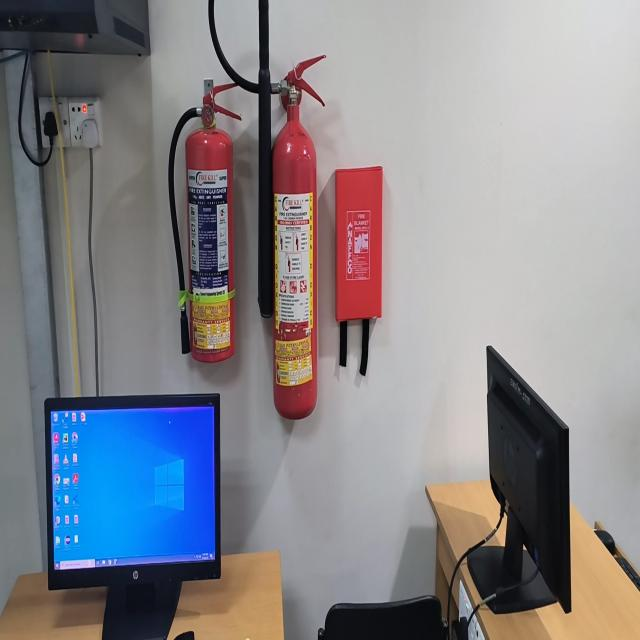Chair: (318, 595, 447, 639)
Fire Extinguisher: (257, 0, 325, 418), (168, 79, 241, 362)
Monitor: (45, 394, 220, 639), (466, 346, 571, 614)
Mouse: (594, 521, 615, 555)
